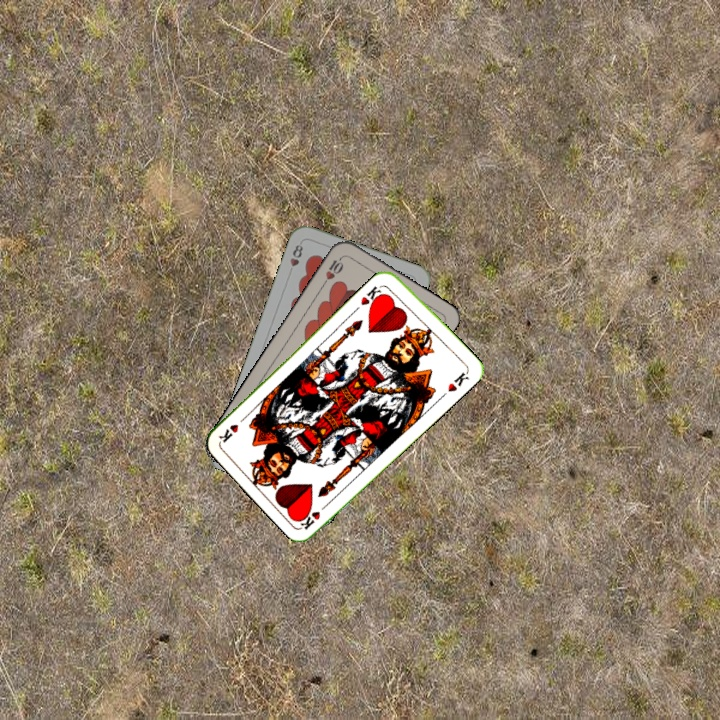H10: (318, 252, 346, 289)
H8: (286, 240, 306, 269)
HK: (296, 498, 332, 532), (357, 281, 387, 310)
